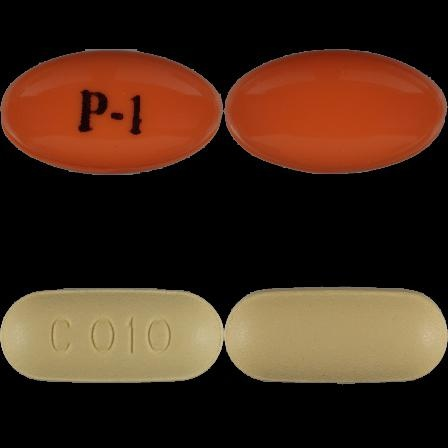10888-7135: (0, 0, 224, 224)
